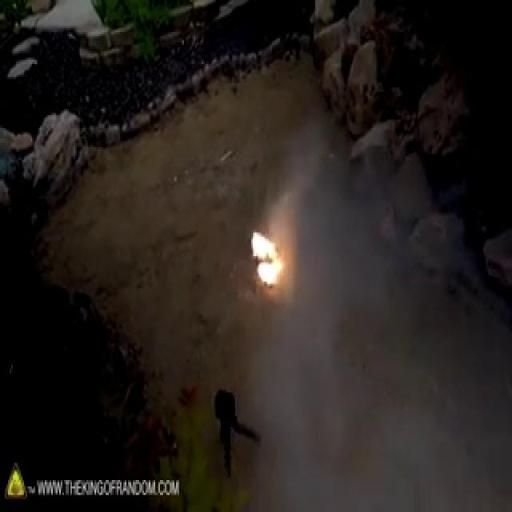smoke: (242, 214, 280, 296)
